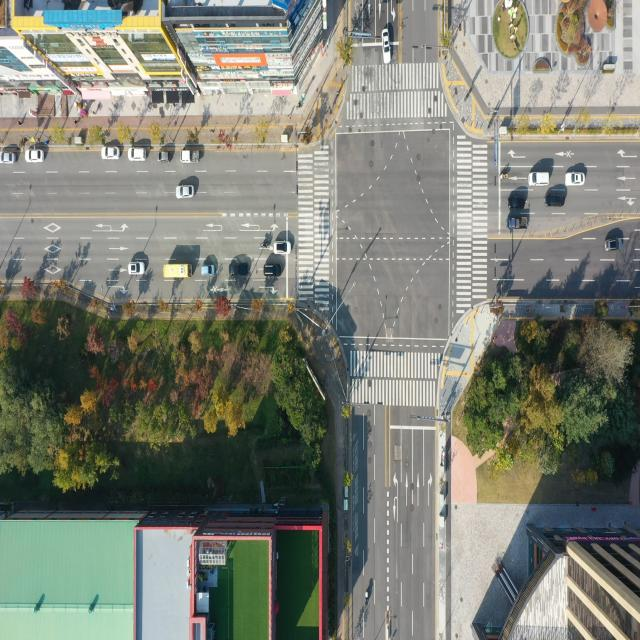car: (382, 29, 392, 65), (528, 173, 550, 187), (565, 172, 585, 186), (27, 148, 45, 163), (176, 185, 195, 199), (102, 146, 120, 160), (129, 147, 147, 161), (230, 263, 248, 277), (604, 239, 622, 252), (130, 264, 146, 278), (0, 150, 16, 164), (274, 242, 291, 255), (544, 197, 563, 208), (511, 198, 528, 210), (266, 266, 282, 278), (159, 150, 174, 162), (202, 266, 217, 278)
small_bus: (163, 264, 190, 281)
small_truck: (180, 149, 200, 164), (509, 217, 529, 230)
